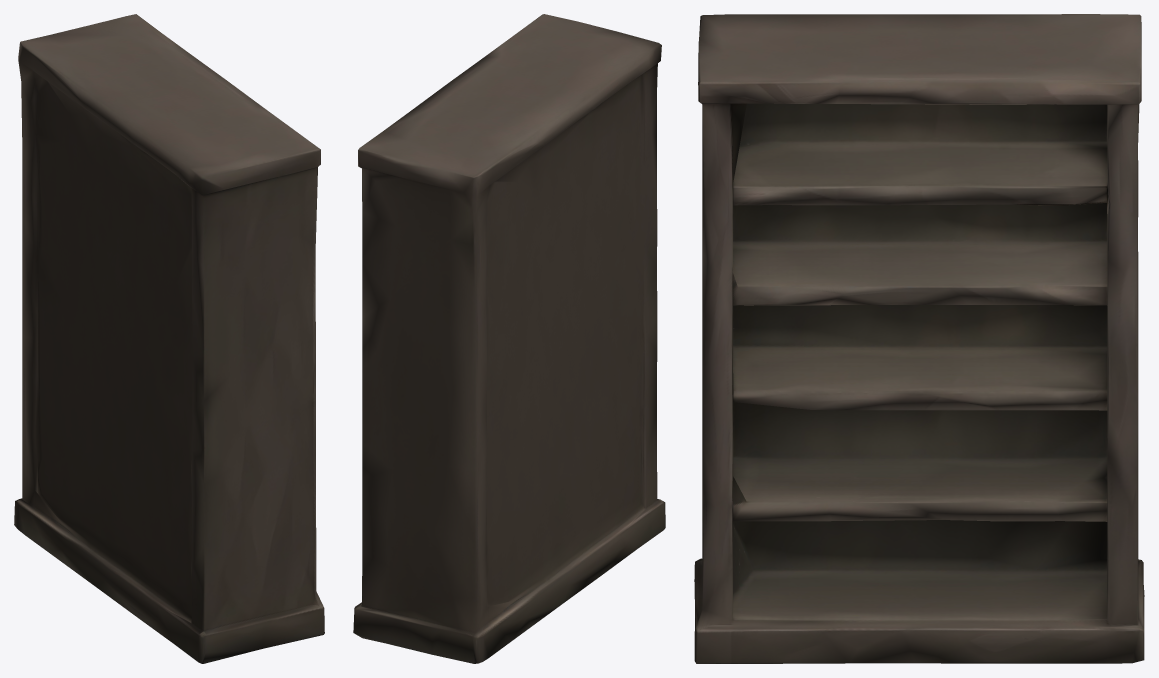
Rendered from wooden+bookshelf+3d+model.glb.
3 renders of one model, left to right at view 1: azimuth 30°, elevation 25°; view 2: azimuth 150°, elevation 25°; view 3: azimuth 270°, elevation 25°, orthographic. The views are drawn at different scales.
Parts seen in each view (by area): view 1: tripo_node_0b84e855-e909-4bf2-8e06-3bd3cdeb9b15; view 2: tripo_node_0b84e855-e909-4bf2-8e06-3bd3cdeb9b15; view 3: tripo_node_0b84e855-e909-4bf2-8e06-3bd3cdeb9b15.
Part boxes in pixels (left/top/right/bottom): tripo_node_0b84e855-e909-4bf2-8e06-3bd3cdeb9b15: left=14, top=14, right=324, bottom=663; tripo_node_0b84e855-e909-4bf2-8e06-3bd3cdeb9b15: left=353, top=14, right=665, bottom=663; tripo_node_0b84e855-e909-4bf2-8e06-3bd3cdeb9b15: left=694, top=14, right=1144, bottom=663.
Size of the model in its own units: 0.2681 by 1 by 0.7021.
1 material, 1 textured.
